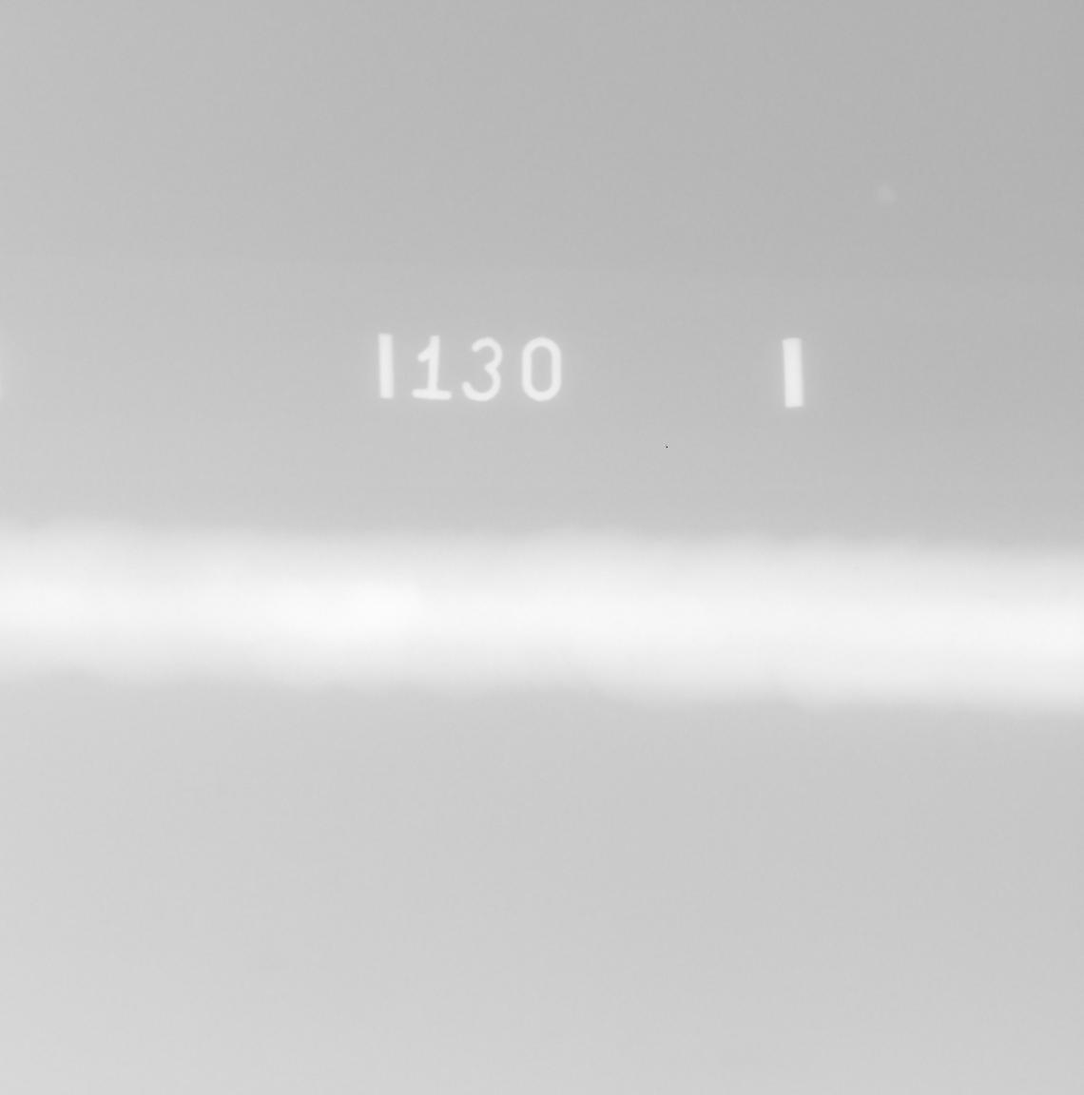Pore/Porosity: (853, 567, 860, 574), (990, 595, 996, 599)
